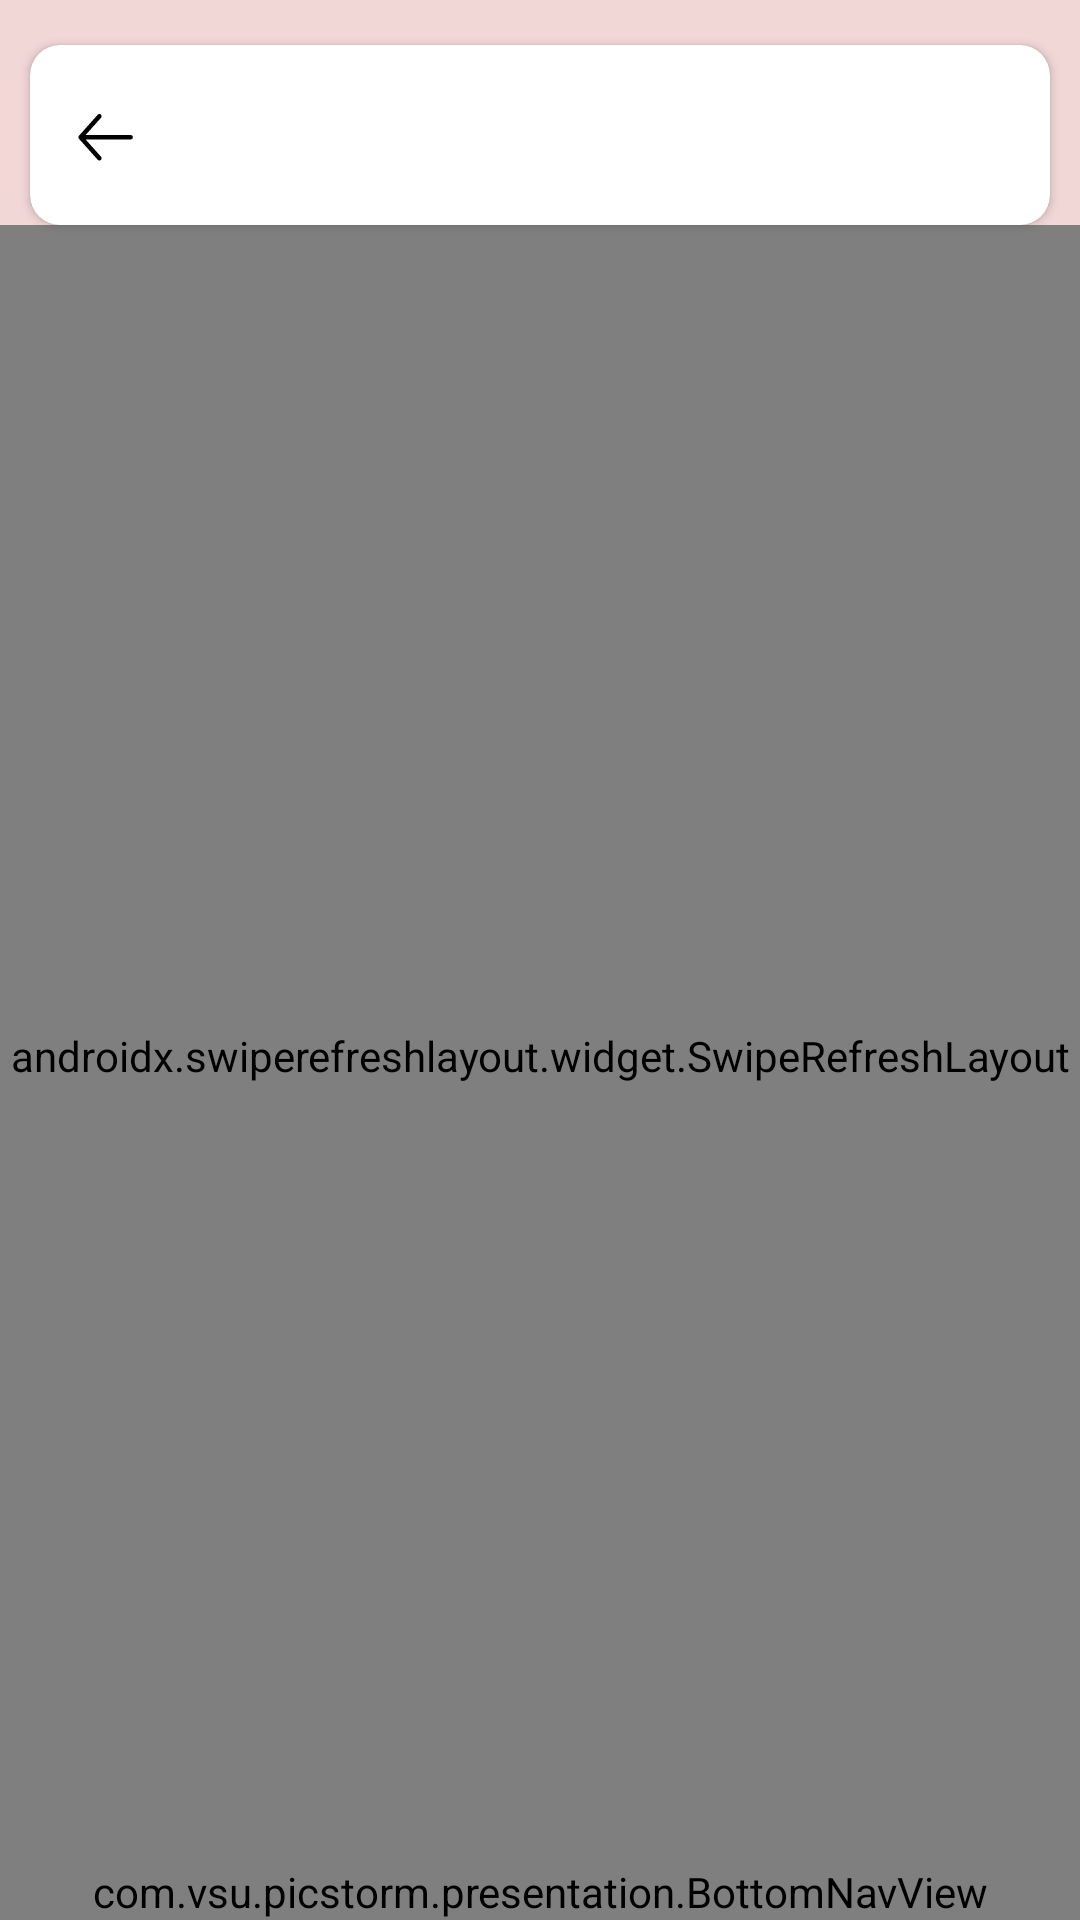

Named icons in this screenshot (1080px×1920px) and their bounding boxes, region(x1, y1, x2, y2):
back arrow: region(78, 114, 133, 161)
